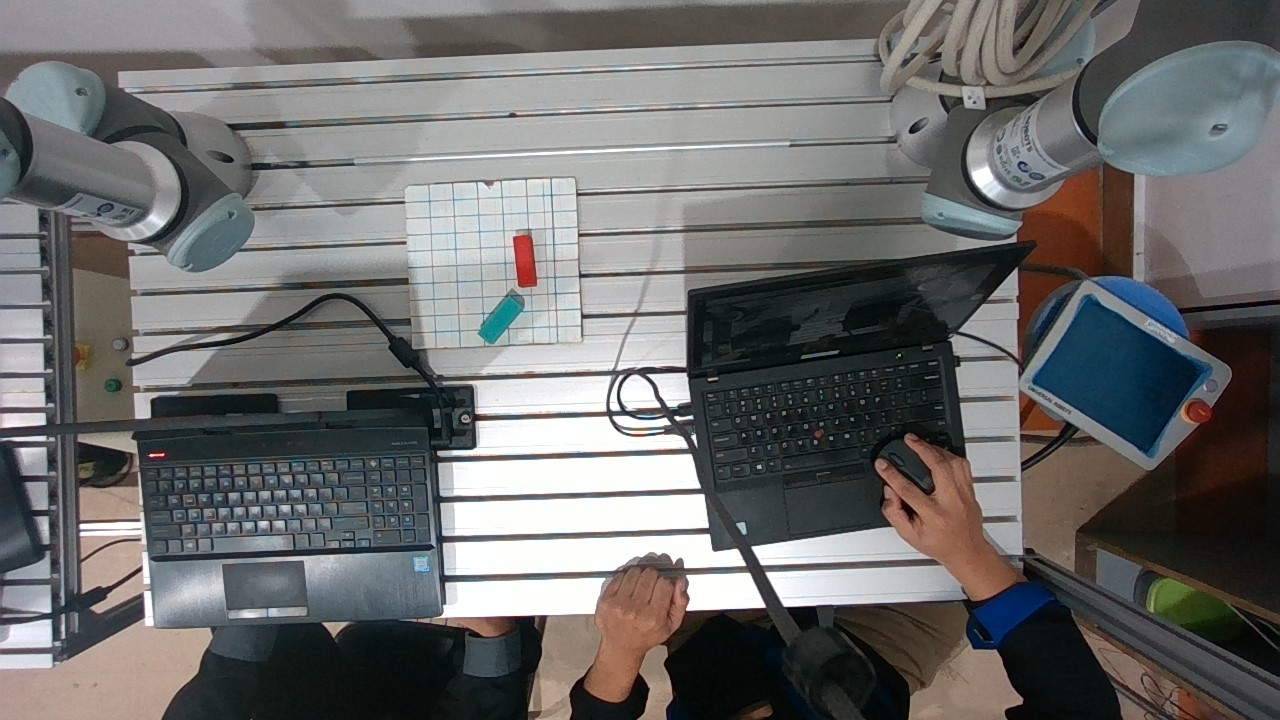box: (480, 289, 522, 345), (509, 231, 542, 288)
